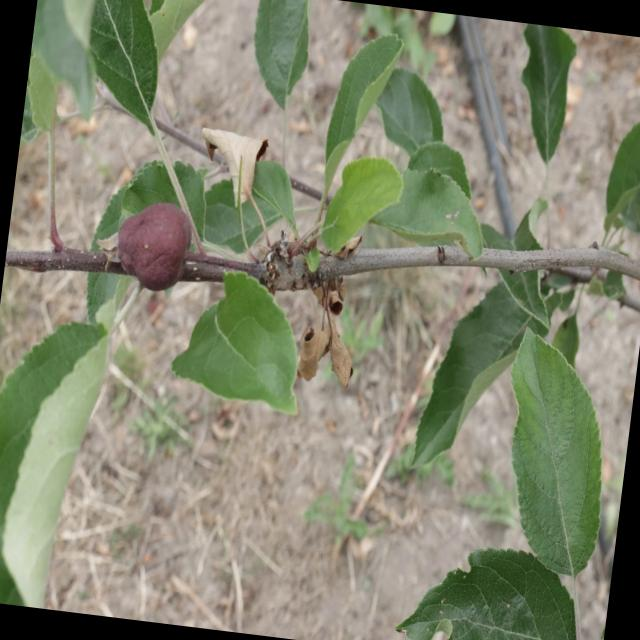-FireBlight-: (292, 238, 369, 400)
